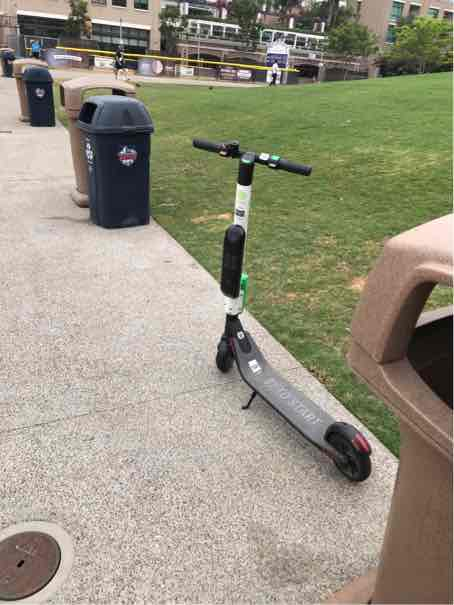scooter: (182, 133, 381, 493)
